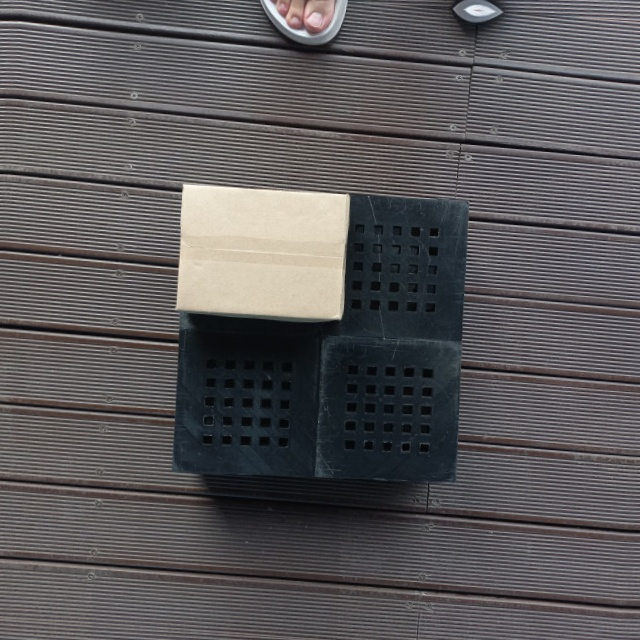box: (173, 181, 350, 328)
pallet: (157, 175, 478, 492)
